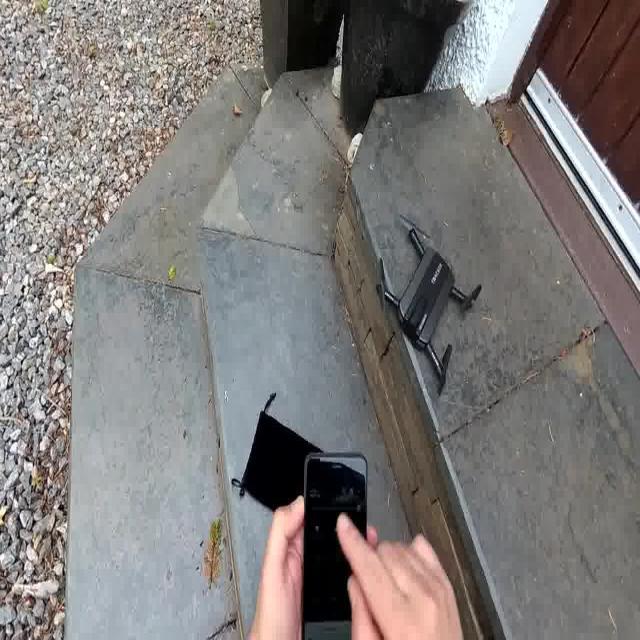drone: (375, 210, 483, 397)
